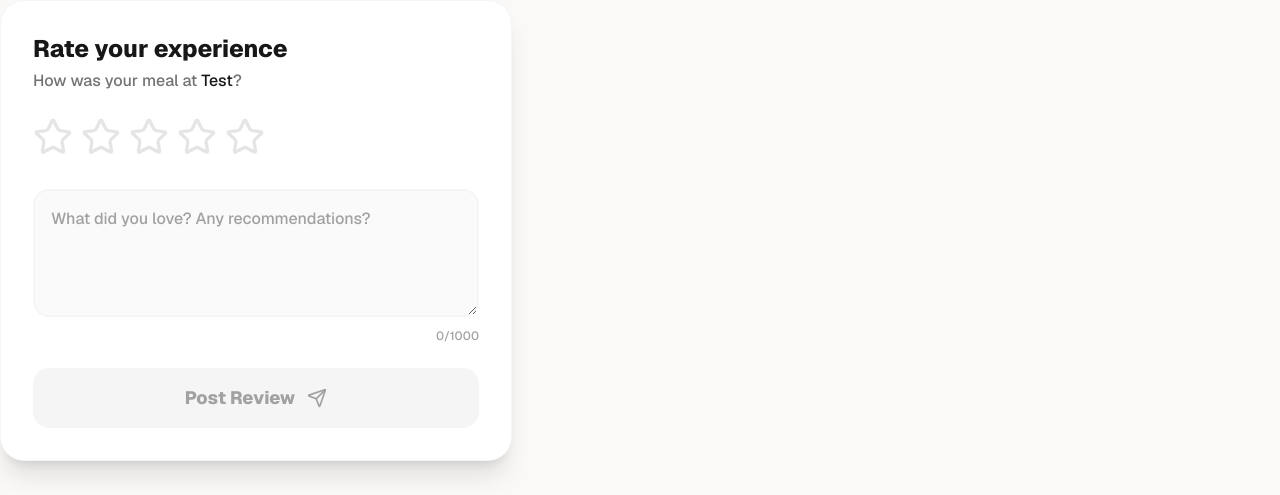
ReviewForm › shows success state after a successful submission
Click the 1st button: (53, 137) [33, 117, 73, 157]
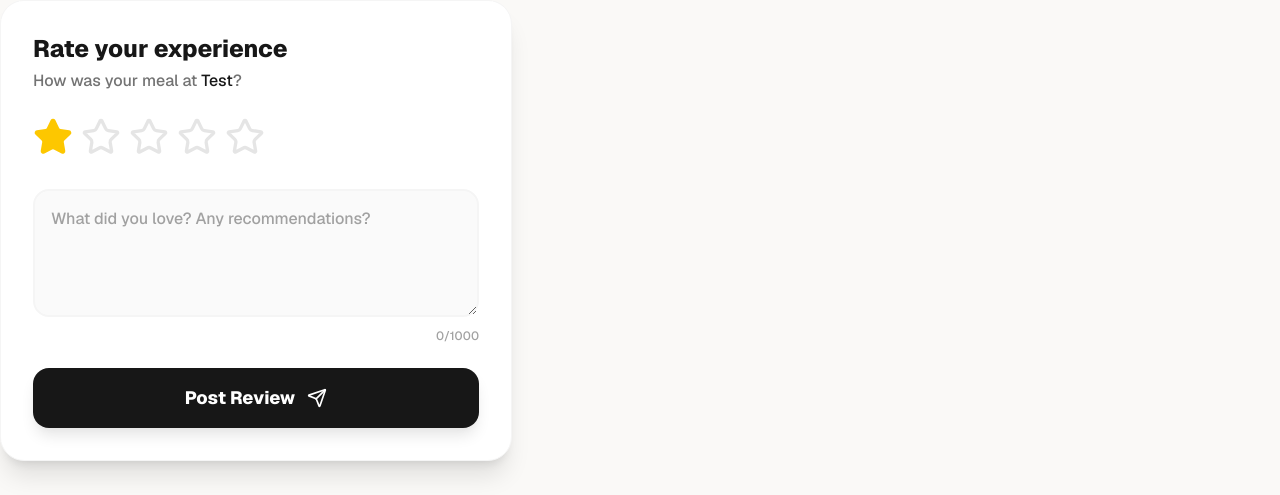
Click the button "Post Review": (256, 398) [33, 368, 479, 428]
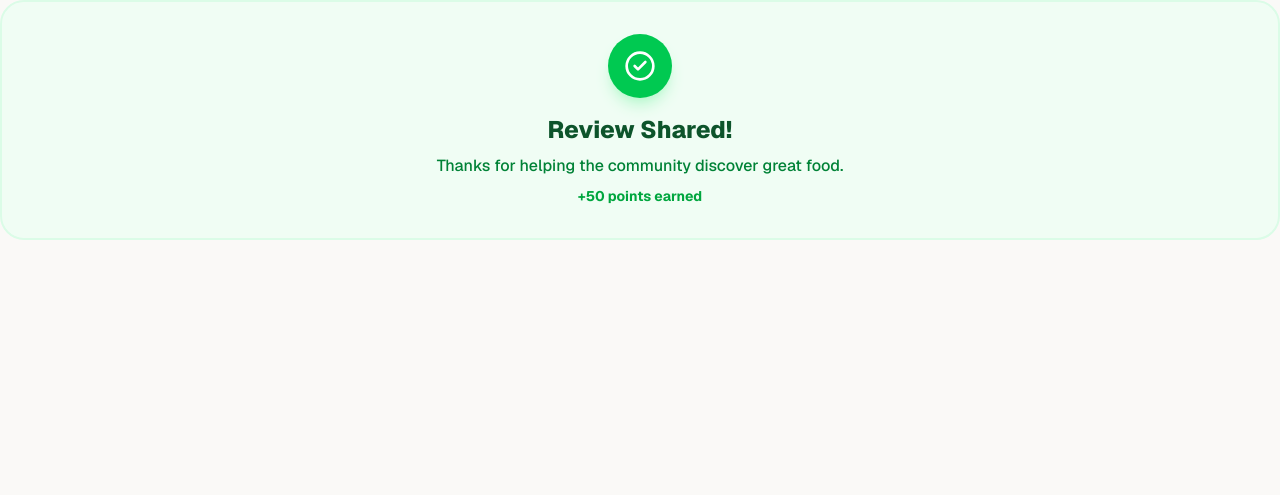
Check: the heading "Review Shared!" is shown, box [548, 114, 732, 145]
